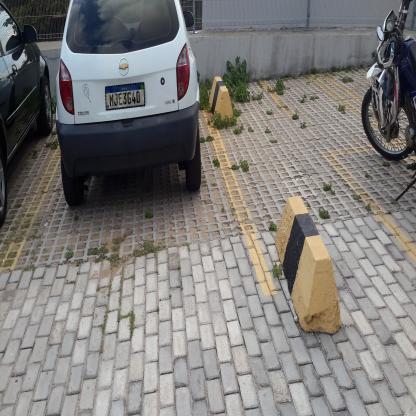PlacaM: (105, 82, 145, 111)
